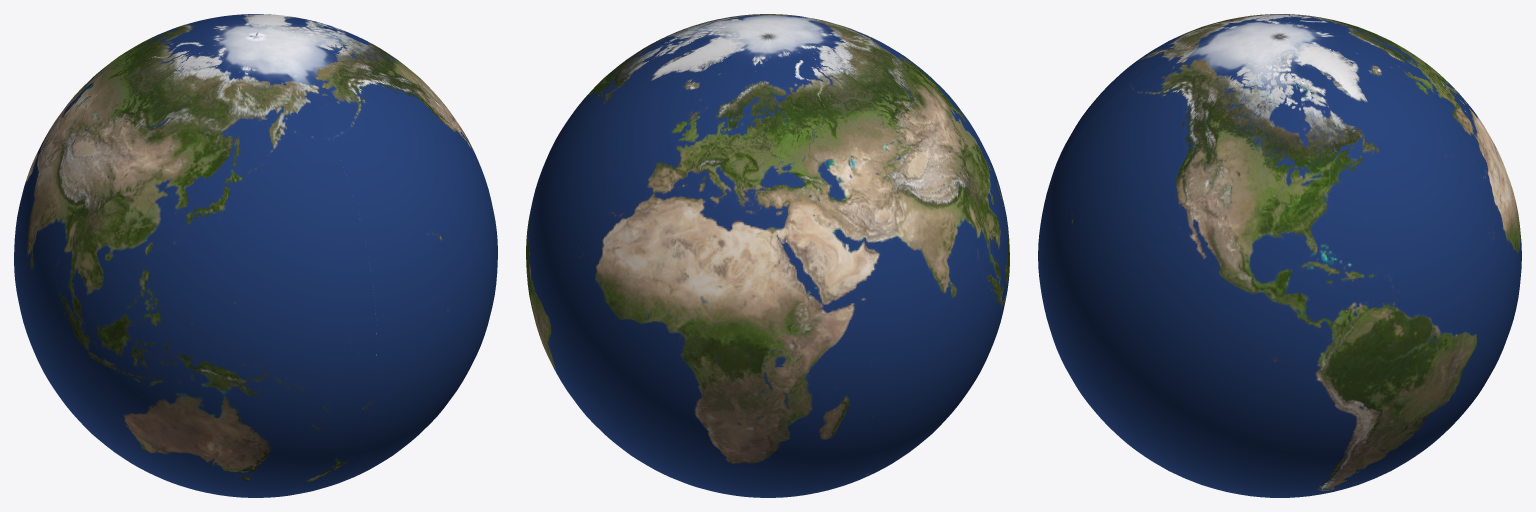
File: planet.obj
3 views of the same model, side by side, from view 1: azimuth 30°, elevation 25°; view 2: azimuth 150°, elevation 25°; view 3: azimuth 270°, elevation 25° (orthographic).
Parts seen in each view (by area): view 1: Plane; view 2: Plane; view 3: Plane.
Part boxes in pixels (x1,y1,x2,y2): Plane: [14, 14, 497, 497]; Plane: [526, 14, 1009, 497]; Plane: [1038, 14, 1521, 497].
Bounding box in the file's own units: 5.21 × 5.21 × 5.21.
